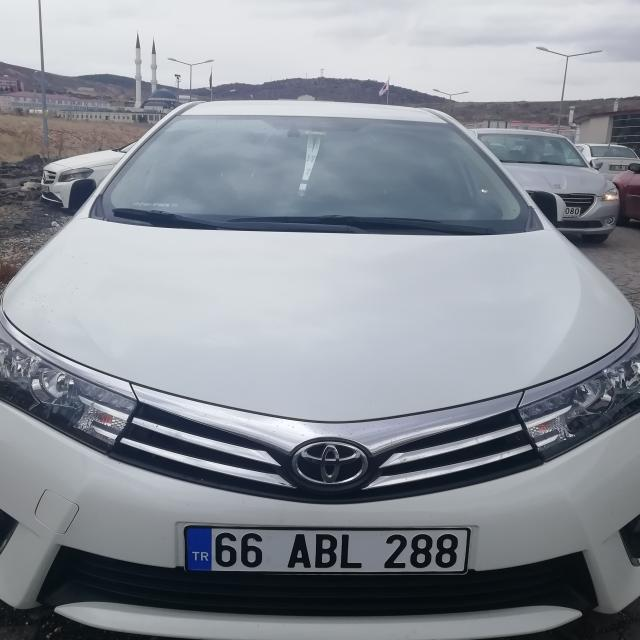license_plate: (185, 527, 470, 575)
